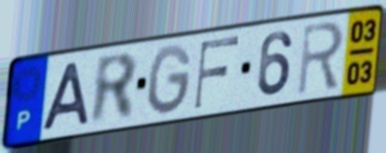6: (257, 30, 293, 98)
A: (39, 60, 92, 134)
F: (191, 34, 242, 113)
G: (146, 42, 194, 118)
R: (295, 18, 346, 98), (89, 50, 140, 128)
